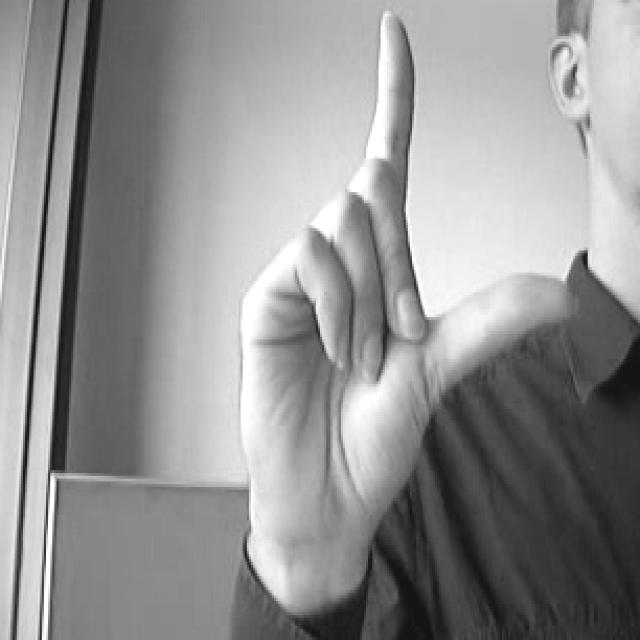L: (220, 0, 584, 565)
